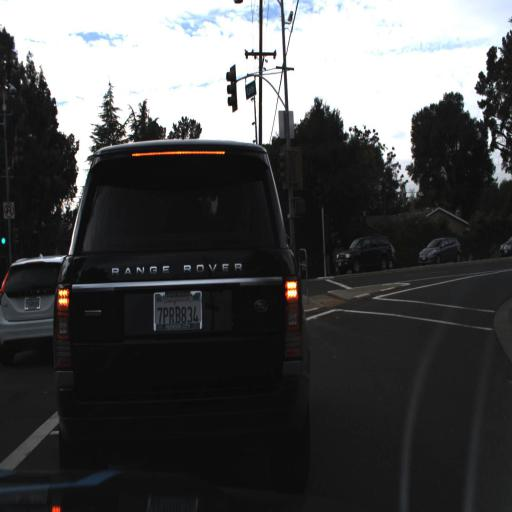car: (52, 137, 312, 464), (0, 252, 77, 352), (335, 232, 395, 274), (417, 234, 465, 267), (497, 230, 511, 255)
trafficLight-Green: (0, 228, 10, 258)
